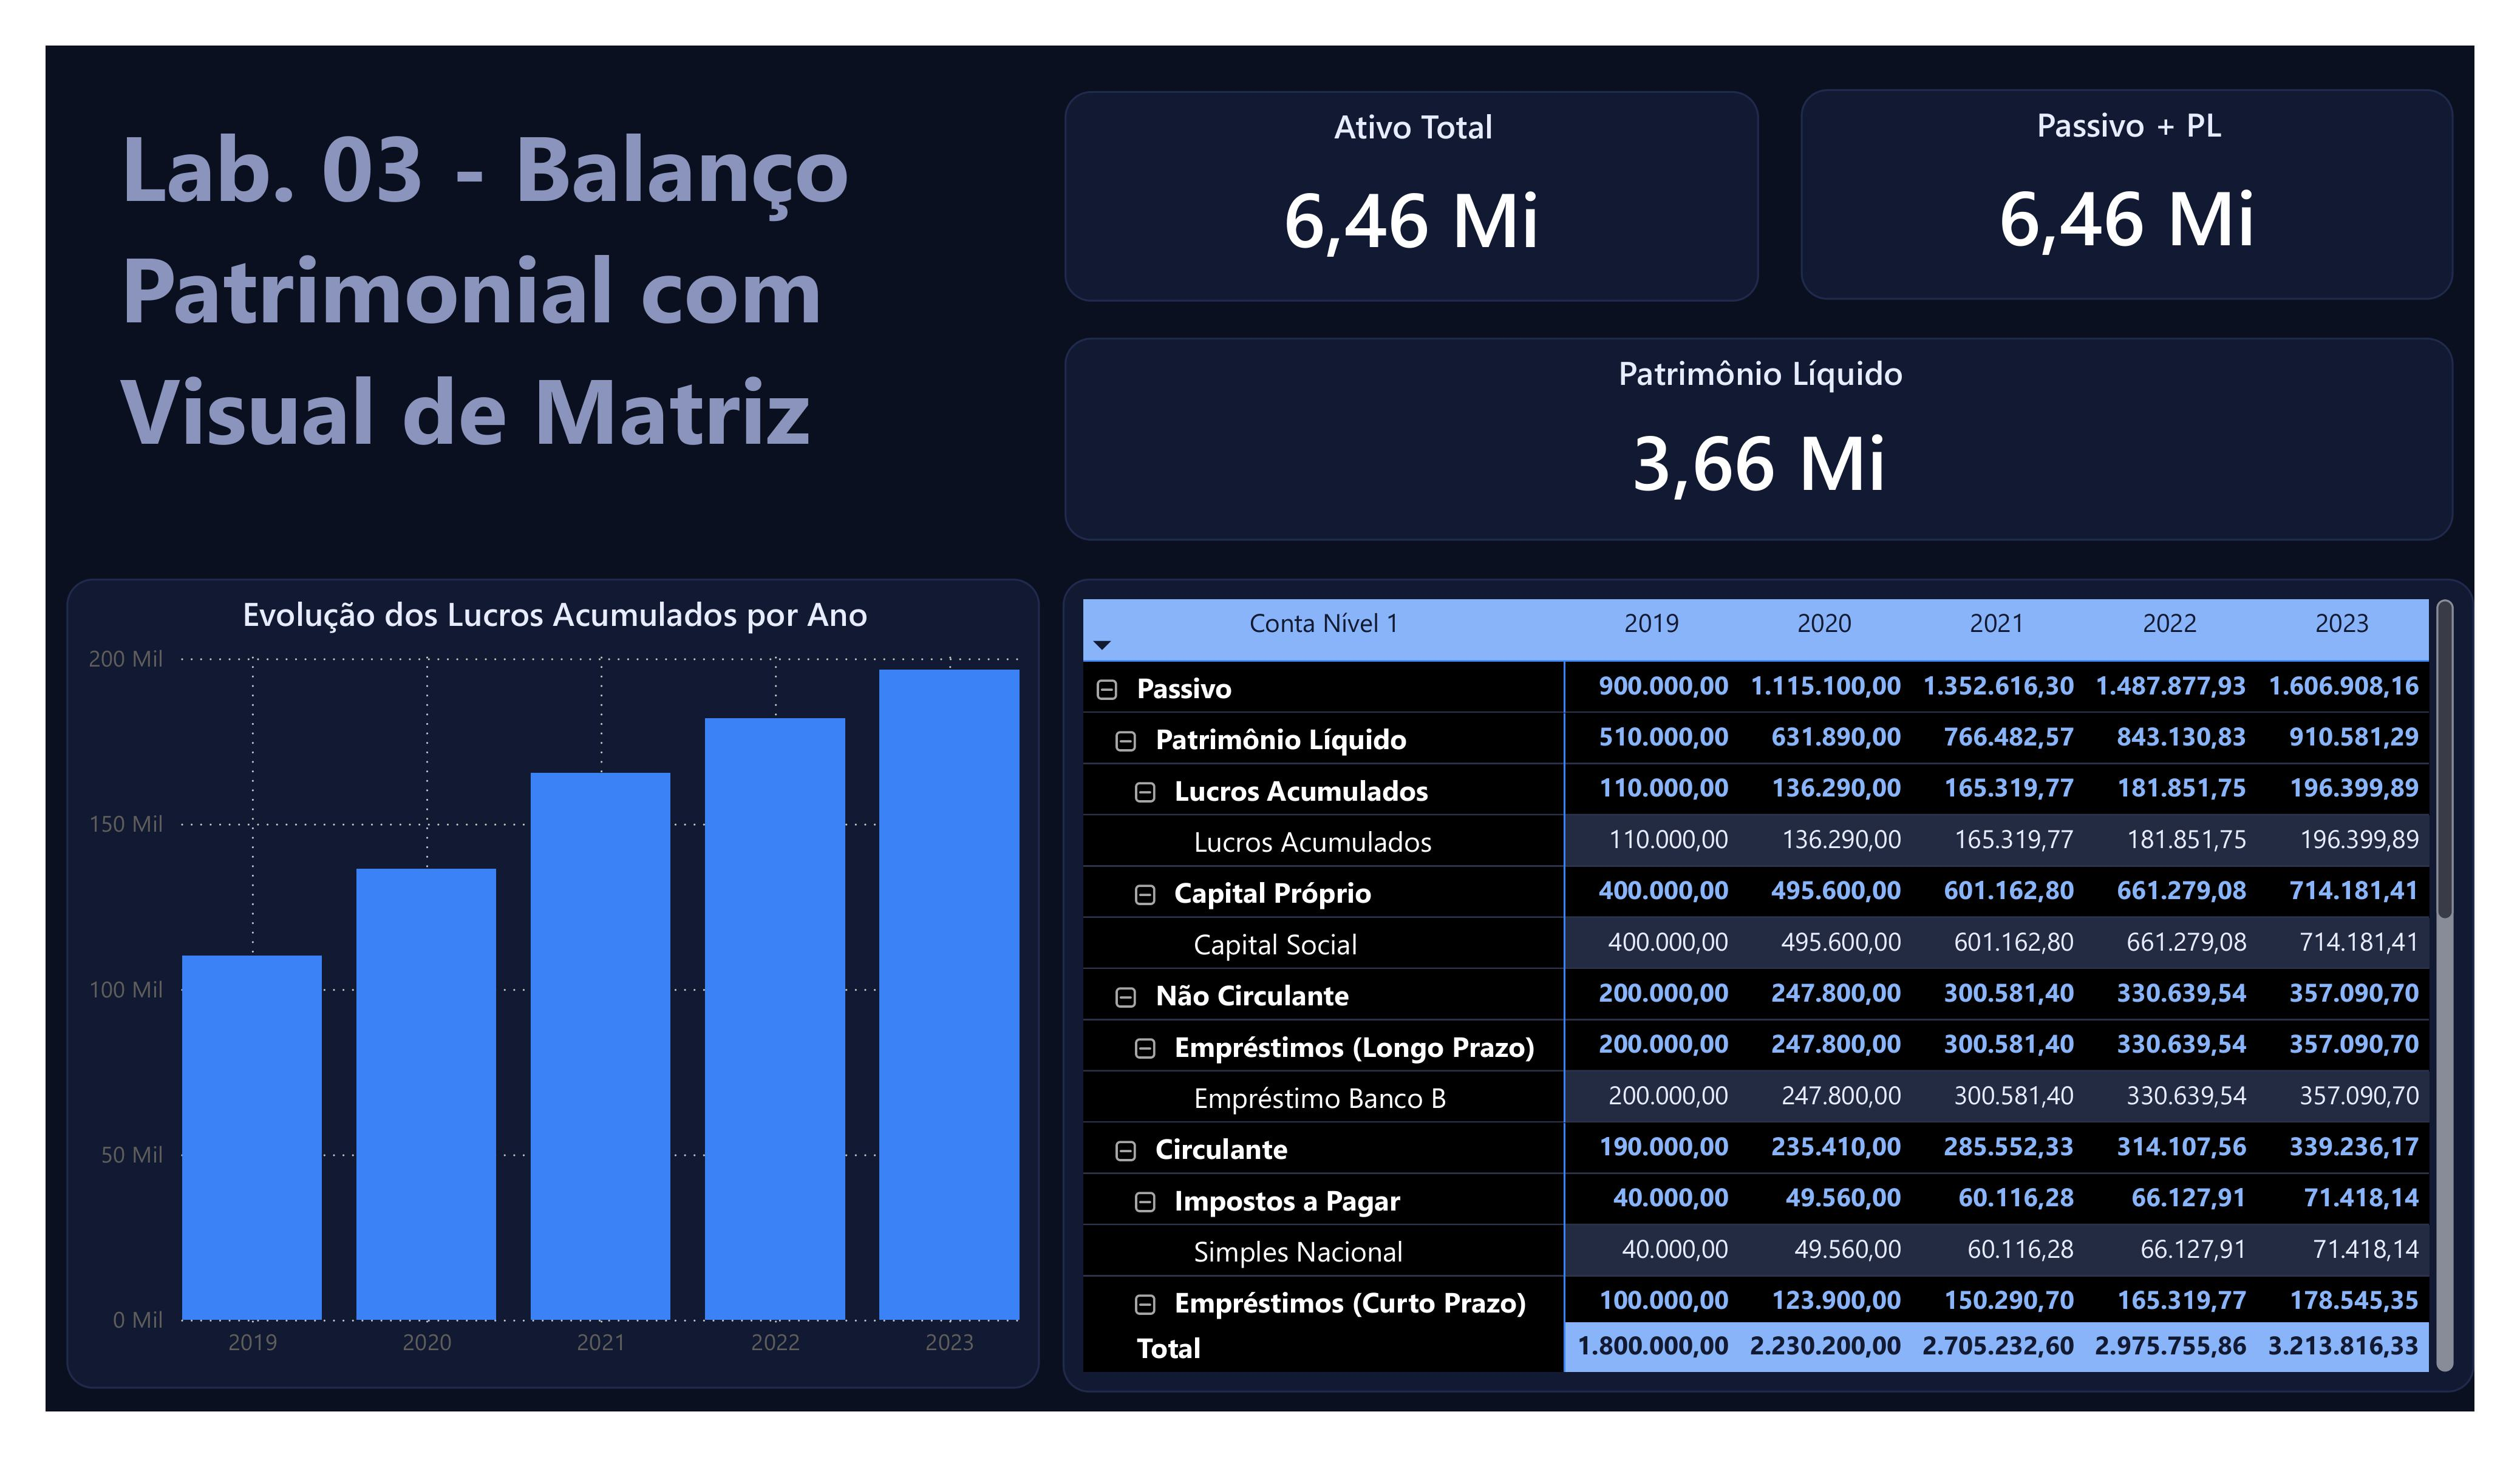

This screenshot's page, from the dashboard's own definition file:
{"tool":"powerbi","page":{"name":"Página 1","canvas":[1280,720],"ordinal":0},"visuals":[{"type":"pivotTable","fields":{"Rows":["PlanoContas.Conta Nível 1","PlanoContas.Conta Nível 2","PlanoContas.Conta Nível 3","PlanoContas.Conta Nível 4"],"Values":["Sum(DadosContabeis.Valor)"],"Columns":["DadosContabeis.Ano"]},"box":[536.3,280.5,744,429.1],"z":0},{"type":"card","title":"Ativo Total","fields":{"Values":["Medidas.AtivoTotal"]},"box":[536.6,23.9,366.2,111.3],"z":2000},{"type":"card","title":"Passivo + PL","fields":{"Values":["Medidas.Passivo + PL"]},"box":[925.4,22.5,343.7,111.3],"z":3000},{"type":"card","title":"Patrimônio Líquido","fields":{"Values":["Medidas.Patrimônio Líquido"]},"box":[536.6,153.5,732.4,107],"z":4000},{"type":"columnChart","title":"Evolução dos Lucros Acumulados por Ano","fields":{"Y":["Medidas.Lucros Acumulados"],"Category":["DadosContabeis.Ano"]},"box":[11,280.5,512.9,427.7],"z":5000},{"type":"textbox","box":[33.8,25.4,422.5,216.9],"z":5001}]}

Visuals, with their boxes on the page's 1280x720 design canvas (x1, y1, x2, y2). These are canvas units, not pixel positions in the 2520x1457 screenshot, which may show the page scaled, cropped or inside an application window:
pivotTable - PlanoContas.Conta Nível 1 x PlanoContas.Conta Nível 2: l=536, t=280, r=1280, b=710
"Ativo Total" card: l=537, t=24, r=903, b=135
"Passivo + PL" card: l=925, t=22, r=1269, b=134
"Patrimônio Líquido" card: l=537, t=154, r=1269, b=260
"Evolução dos Lucros Acumulados por Ano" columnChart: l=11, t=280, r=524, b=708
textbox: l=34, t=25, r=456, b=242
